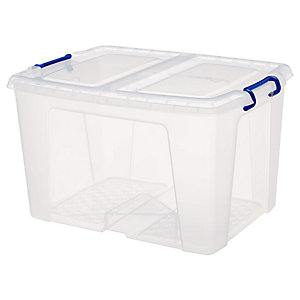PlasticBox: (4, 43, 296, 257)
